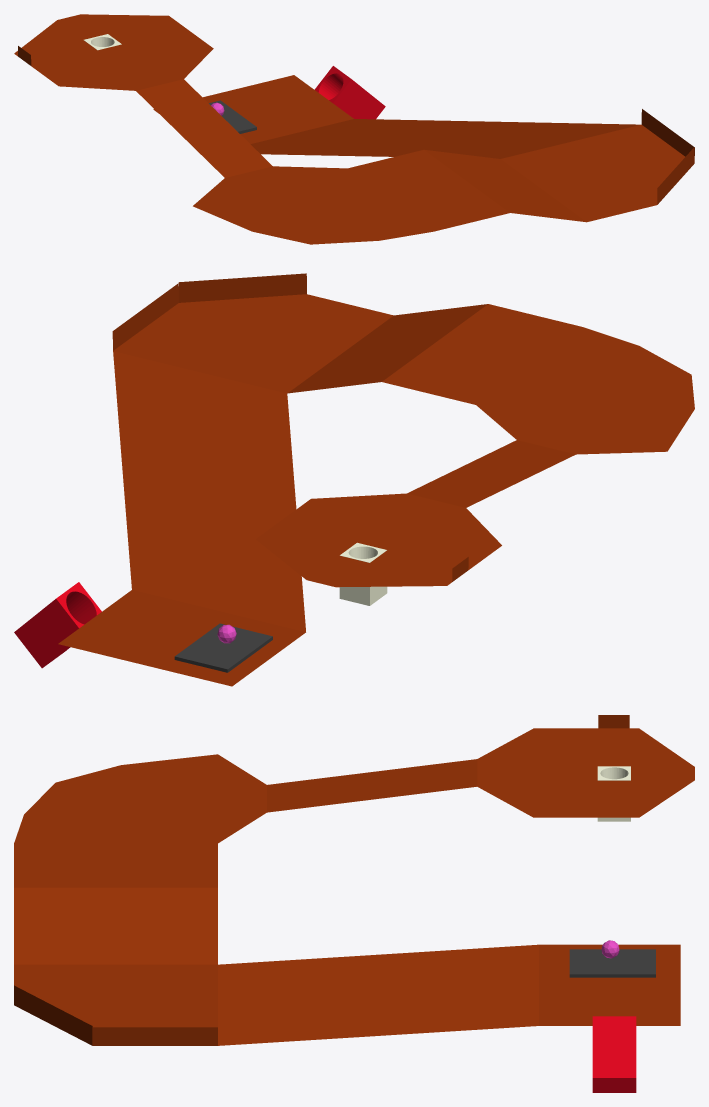
The model's file is boilerplate_level_15.glb.
The picture shows the model from 3 angles, top to bottom: view 1: azimuth 30°, elevation 25°; view 2: azimuth 150°, elevation 25°; view 3: azimuth 270°, elevation 25°; orthographic projection. The views are drawn at different scales.
Parts seen in each view (by area): view 1: Plane, Cannon, Start, Cup; view 2: Plane, Cannon, Start, Cup; view 3: Plane, Cannon, Start, Cup.
Boxes of the visible parts, x1=… form: Plane: x1=14, y1=14, x2=694, y2=244; Cannon: x1=314, y1=66, x2=385, y2=119; Start: x1=209, y1=100, x2=256, y2=133; Cup: x1=84, y1=34, x2=121, y2=50; Plane: x1=58, y1=273, x2=694, y2=686; Cannon: x1=14, y1=582, x2=101, y2=668; Start: x1=174, y1=623, x2=272, y2=672; Cup: x1=339, y1=542, x2=387, y2=605; Plane: x1=14, y1=715, x2=694, y2=1045; Cannon: x1=592, y1=1016, x2=636, y2=1092; Start: x1=569, y1=949, x2=655, y2=977; Cup: x1=597, y1=766, x2=630, y2=821.
Size of the model in its own units: 55.96 by 18.95 by 62.2.
